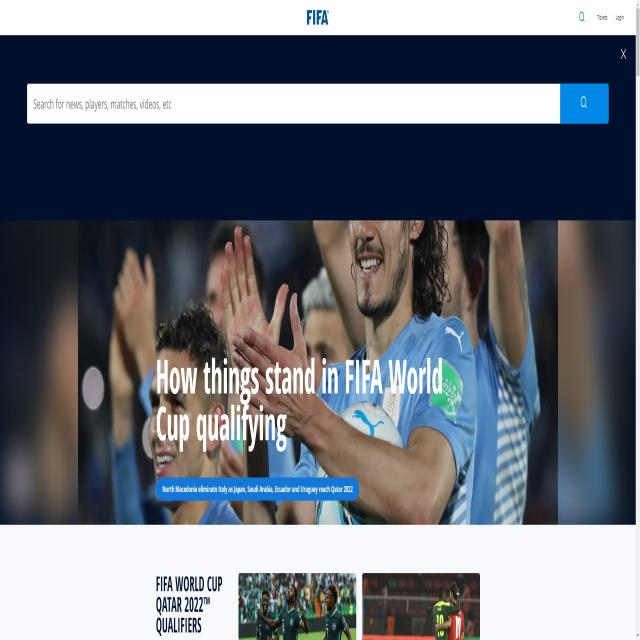search: (25, 76, 614, 132)
